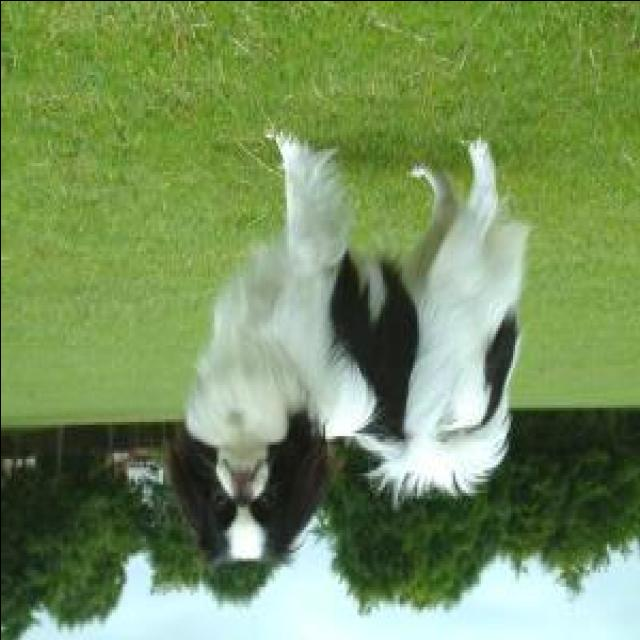husky: (164, 131, 526, 563)
